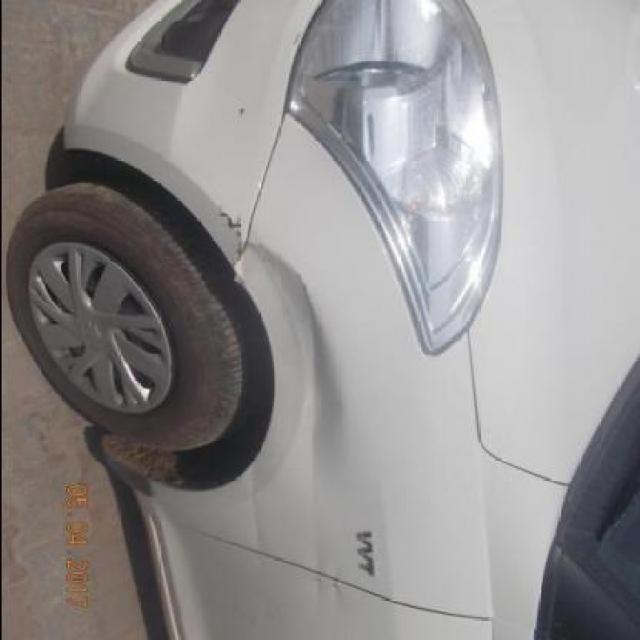damage: (232, 238, 346, 463), (306, 452, 341, 607), (241, 465, 272, 575), (207, 201, 246, 258)
